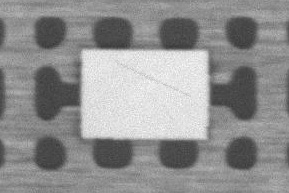DIE_CRACK: (174, 41, 285, 64)
